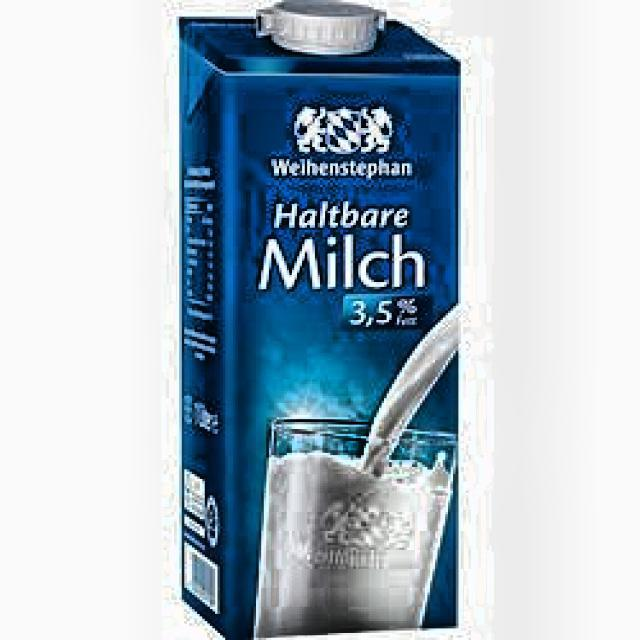cardboard: (174, 0, 461, 638)
